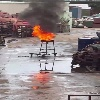fire: (32, 25, 55, 40)
